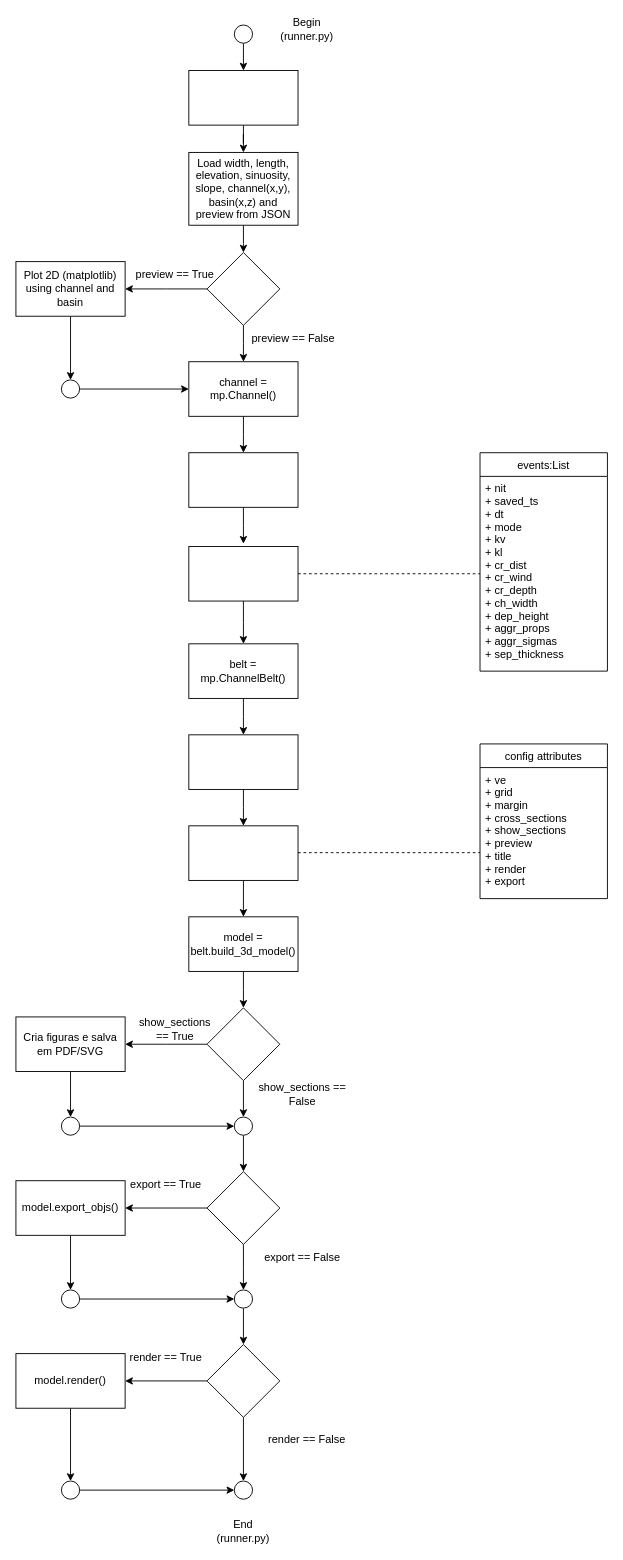
The diagram is 623 pixels wide and 1560 high, and some of its shapes have lost their labels. Each missing label, with the centre of its shape:
"basin = mp.Basin()" belongs at point (243, 479).
"Call belt.simulate() for all the events" belongs at point (243, 761).
"Create events (list)" belongs at point (243, 573).
"Load attributes from config" belongs at point (243, 852).
"Load channels, events and config JSON files" belongs at point (243, 97).
